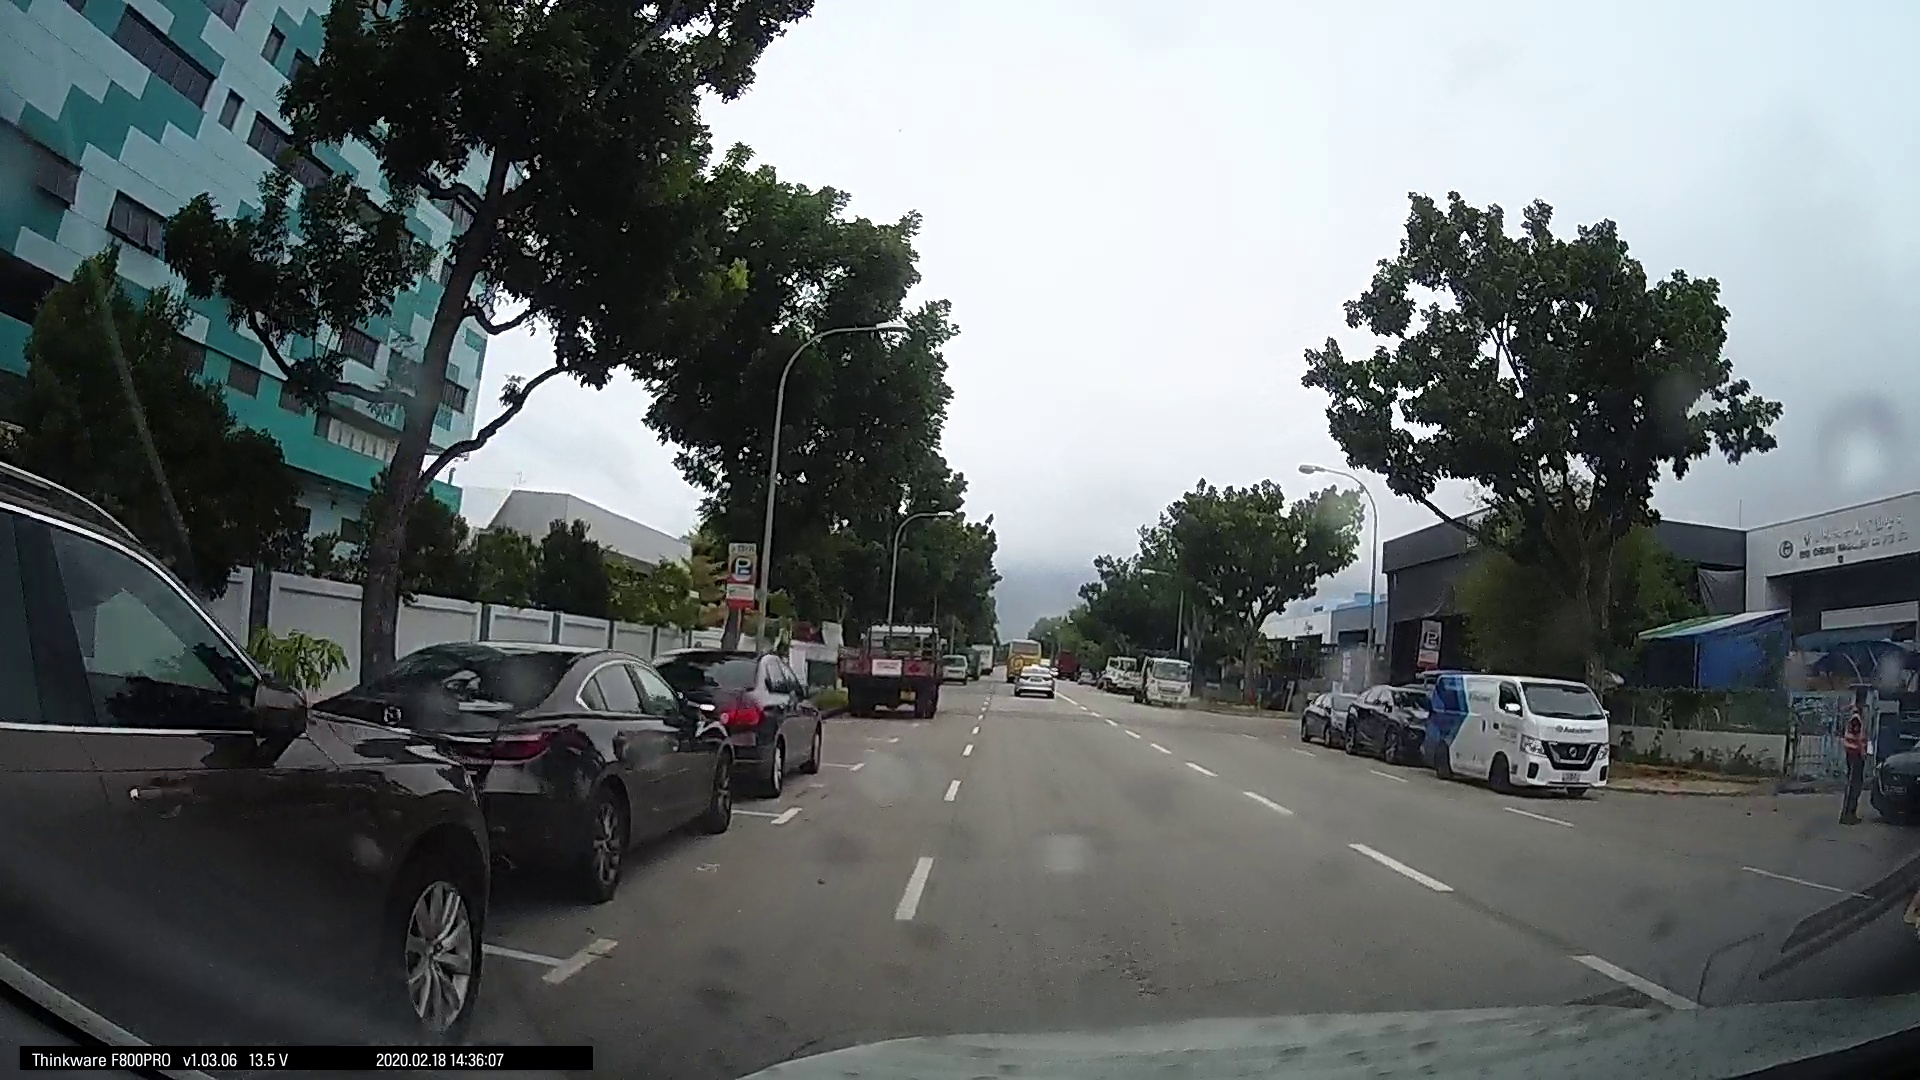Light Vehicle: (7, 527, 535, 1017), (339, 640, 731, 891), (1424, 666, 1615, 796), (671, 641, 822, 799), (841, 624, 942, 713), (1348, 680, 1433, 764), (1295, 682, 1367, 752), (1130, 650, 1189, 705), (1006, 654, 1055, 698), (938, 644, 975, 680)
